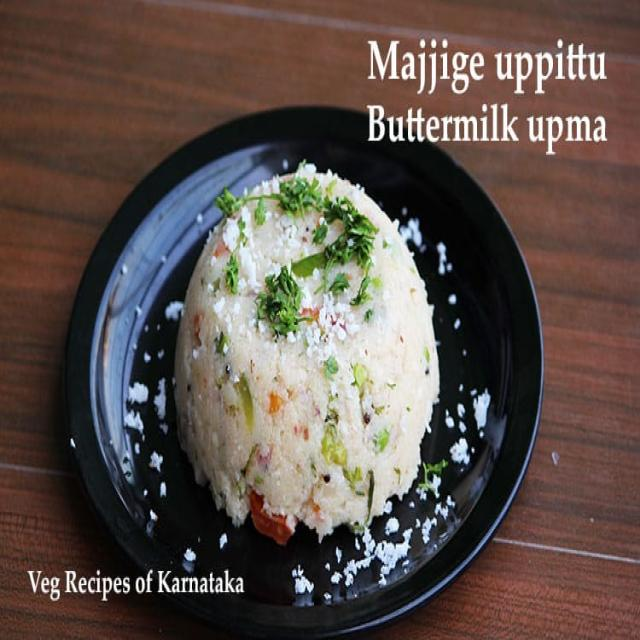upma: (167, 149, 449, 557)
